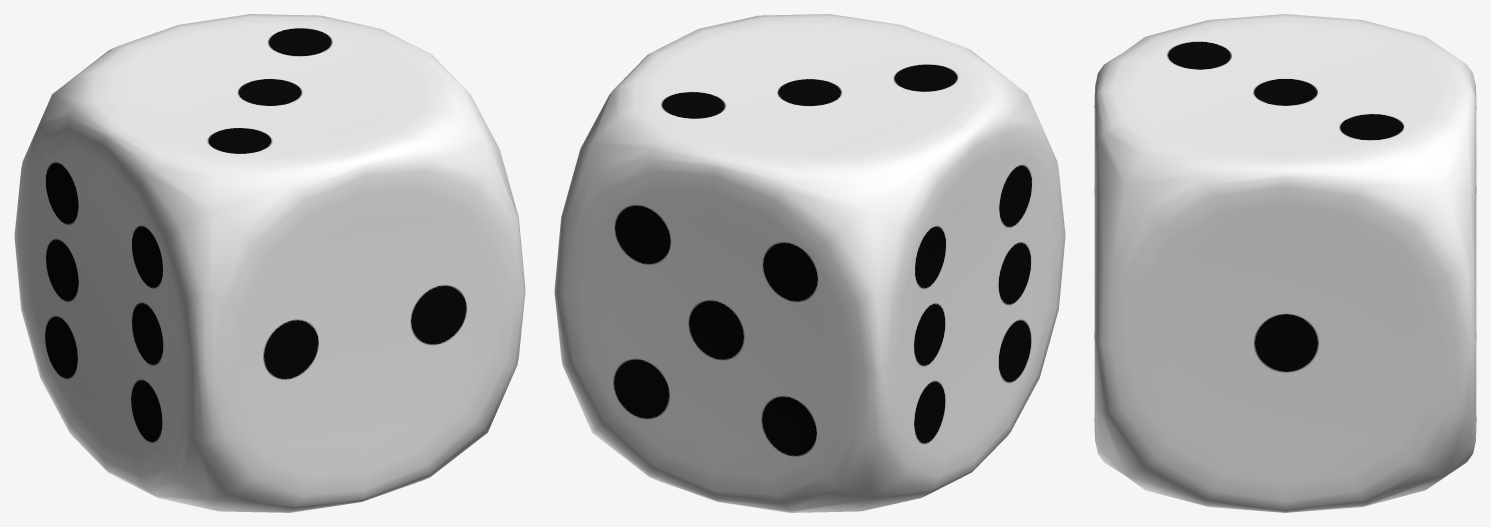
File: die3.glb
3 views of the same model, side by side, from view 1: azimuth 30°, elevation 25°; view 2: azimuth 150°, elevation 25°; view 3: azimuth 270°, elevation 25° (orthographic).
Visible parts, largest first — view 1: render_die; view 2: render_die; view 3: render_die.
Part boxes in pixels (x1=…): render_die: x1=14, y1=14, x2=525, y2=512; render_die: x1=554, y1=14, x2=1065, y2=512; render_die: x1=1094, y1=14, x2=1476, y2=512.
Size of what is drawn, in the model's own units: 1.95 by 1.95 by 1.95.
Materials: 1 (1 with a texture image).
